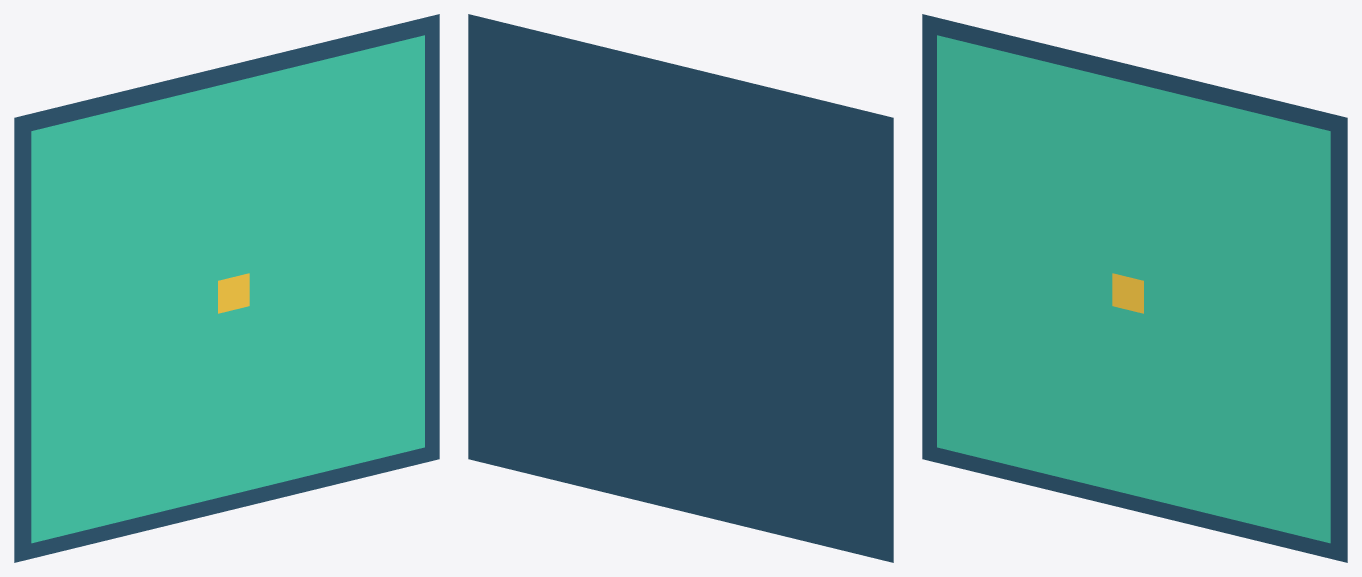
File: panel.gltf
The picture shows the model from 3 angles, left to right: view 1: azimuth 30°, elevation 25°; view 2: azimuth 150°, elevation 25°; view 3: azimuth 330°, elevation 25°; orthographic projection.
Visible parts, largest first — view 1: Target, Border, Cursor; view 2: Border; view 3: Target, Border, Cursor.
Part boxes in pixels (<box>): Target: <box>31,35,424,543</box>; Border: <box>14,14,439,562</box>; Cursor: <box>218,273,249,313</box>; Border: <box>468,14,893,562</box>; Target: <box>937,35,1330,543</box>; Border: <box>922,14,1347,562</box>; Cursor: <box>1112,273,1143,313</box>.
Size of the model in its own units: 2.16 by 2.16 by 0.06.
